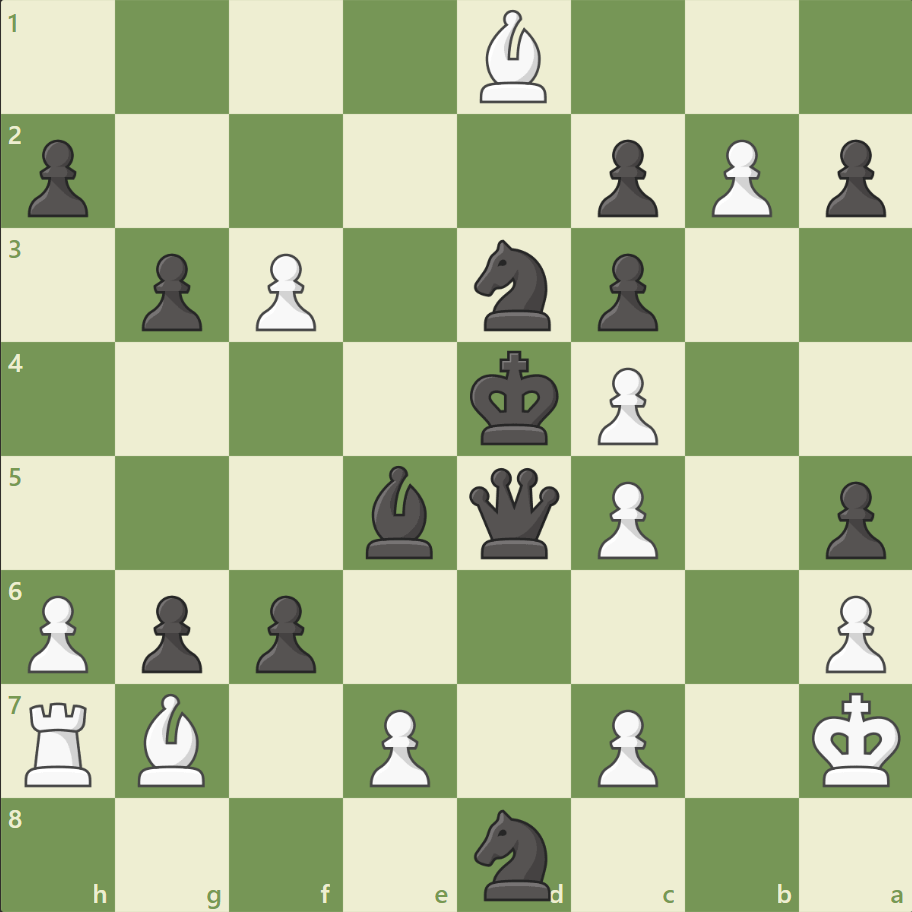B: (131, 687, 215, 790), (471, 6, 555, 109)
K: (806, 685, 906, 793)
P: (20, 586, 95, 677), (247, 246, 322, 337), (701, 132, 776, 223), (588, 700, 662, 791), (361, 700, 435, 791), (815, 586, 889, 677), (588, 473, 662, 564), (588, 359, 662, 450)
R: (19, 693, 102, 790)
b: (358, 460, 442, 563)
k: (465, 344, 565, 452)
n: (465, 234, 562, 337), (465, 802, 562, 904)
p: (247, 586, 322, 677), (133, 586, 208, 677), (133, 246, 208, 337), (20, 132, 95, 223), (815, 473, 889, 564), (588, 246, 662, 337), (815, 132, 889, 223), (588, 132, 662, 223)
q: (464, 463, 563, 562)
